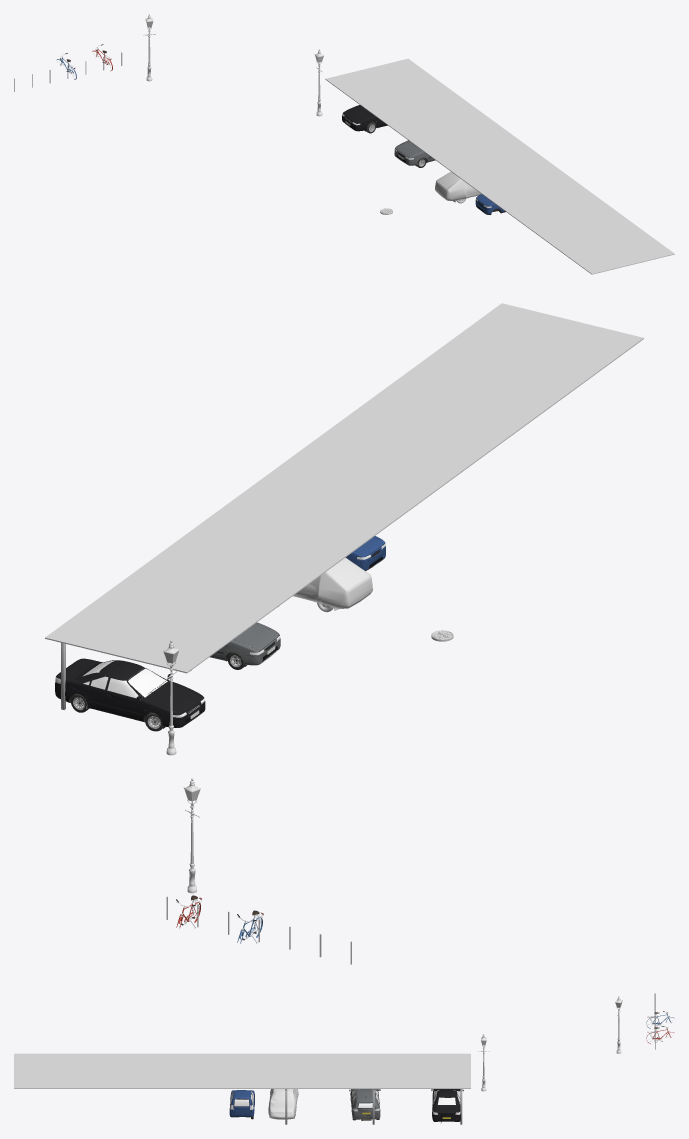
The model's file is cell_1_0.lite.glb.
3 views of the same model, one above another, from view 1: azimuth 30°, elevation 25°; view 2: azimuth 150°, elevation 25°; view 3: azimuth 270°, elevation 25° (orthographic). The views are drawn at different scales.
Visible parts, largest first — view 1: cell_1_0; view 2: cell_1_0; view 3: cell_1_0.
Boxes of the visible parts, x1,y1,x2,y2 form: cell_1_0: (14,14,674,274); cell_1_0: (45,303,643,964); cell_1_0: (14,993,674,1124).
Bounding box in the file's own units: 17.73 × 4.07 × 41.08.
